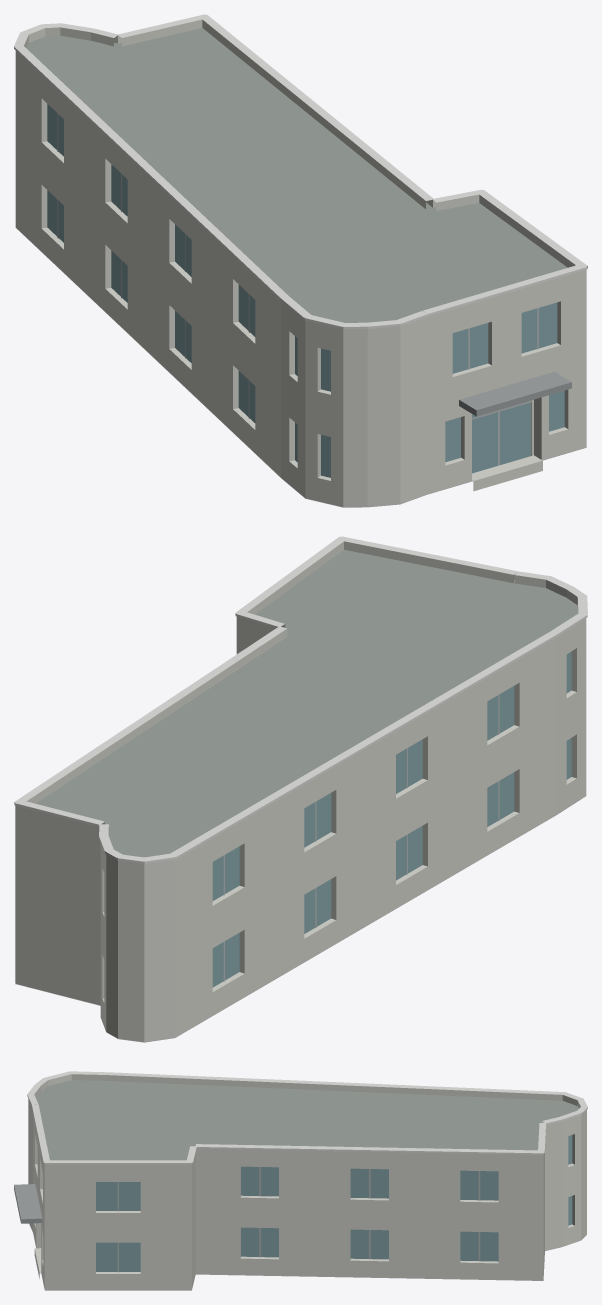
3 views of the same model, one above another, from view 1: azimuth 30°, elevation 25°; view 2: azimuth 150°, elevation 25°; view 3: azimuth 270°, elevation 25° (orthographic). The views are drawn at different scales.
Visible parts, largest first — view 1: osm761589261__wall, osm761589261__roof, osm761589261__glass, osm761589261__trim, osm761589261__parapet, osm761589261__canopy, osm761589261__entranceThreshold_0, osm761589261__frame; view 2: osm761589261__wall, osm761589261__roof, osm761589261__trim, osm761589261__glass, osm761589261__parapet; view 3: osm761589261__wall, osm761589261__roof, osm761589261__glass, osm761589261__parapet, osm761589261__trim, osm761589261__canopy, osm761589261__frame.
Part boxes in pixels (bbox=[...]): osm761589261__wall: bbox=[15, 55, 586, 507]; osm761589261__roof: bbox=[15, 28, 586, 507]; osm761589261__glass: bbox=[47, 104, 564, 477]; osm761589261__trim: bbox=[14, 14, 587, 329]; osm761589261__parapet: bbox=[15, 19, 586, 334]; osm761589261__canopy: bbox=[459, 371, 571, 416]; osm761589261__entranceThreshold_0: bbox=[472, 455, 542, 491]; osm761589261__frame: bbox=[57, 113, 538, 465]; osm761589261__wall: bbox=[15, 622, 586, 1041]; osm761589261__roof: bbox=[15, 549, 585, 1042]; osm761589261__trim: bbox=[14, 536, 587, 863]; osm761589261__glass: bbox=[212, 651, 571, 987]; osm761589261__parapet: bbox=[15, 541, 586, 869]; osm761589261__wall: bbox=[28, 1100, 586, 1290]; osm761589261__roof: bbox=[30, 1080, 586, 1290]; osm761589261__glass: bbox=[96, 1135, 572, 1271]; osm761589261__parapet: bbox=[28, 1074, 586, 1168]; osm761589261__trim: bbox=[27, 1071, 587, 1164]; osm761589261__canopy: bbox=[14, 1184, 42, 1223]; osm761589261__frame: bbox=[117, 1167, 480, 1272].
Bounding box in the file's own units: 11.62 × 7.95 × 30.73.
